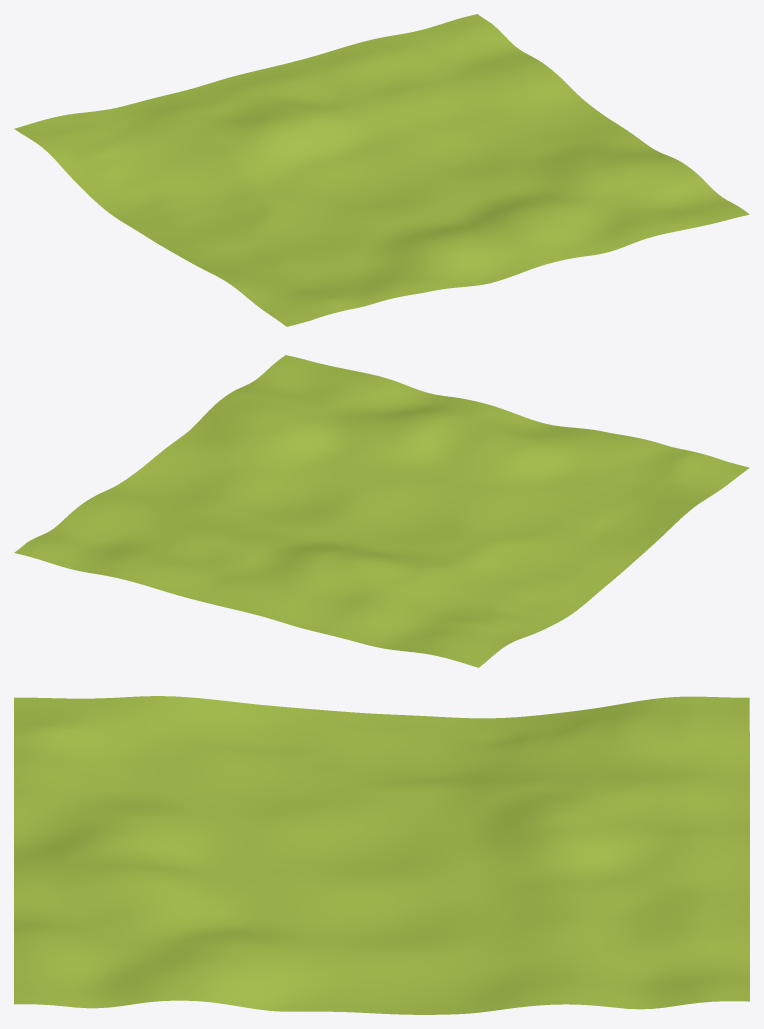
File: carre8.fbx
The picture shows the model from 3 angles, top to bottom: view 1: azimuth 30°, elevation 25°; view 2: azimuth 150°, elevation 25°; view 3: azimuth 270°, elevation 25°; orthographic projection. The views are drawn at different scales.
Parts seen in each view (by area): view 1: carre8; view 2: carre8; view 3: carre8.
Boxes of the visible parts, x1,y1,x2,y2 form: carre8: [14, 14, 749, 326]; carre8: [14, 355, 749, 667]; carre8: [14, 696, 749, 1014].
Size of the model in its own units: 710 by 33.71 by 720.
